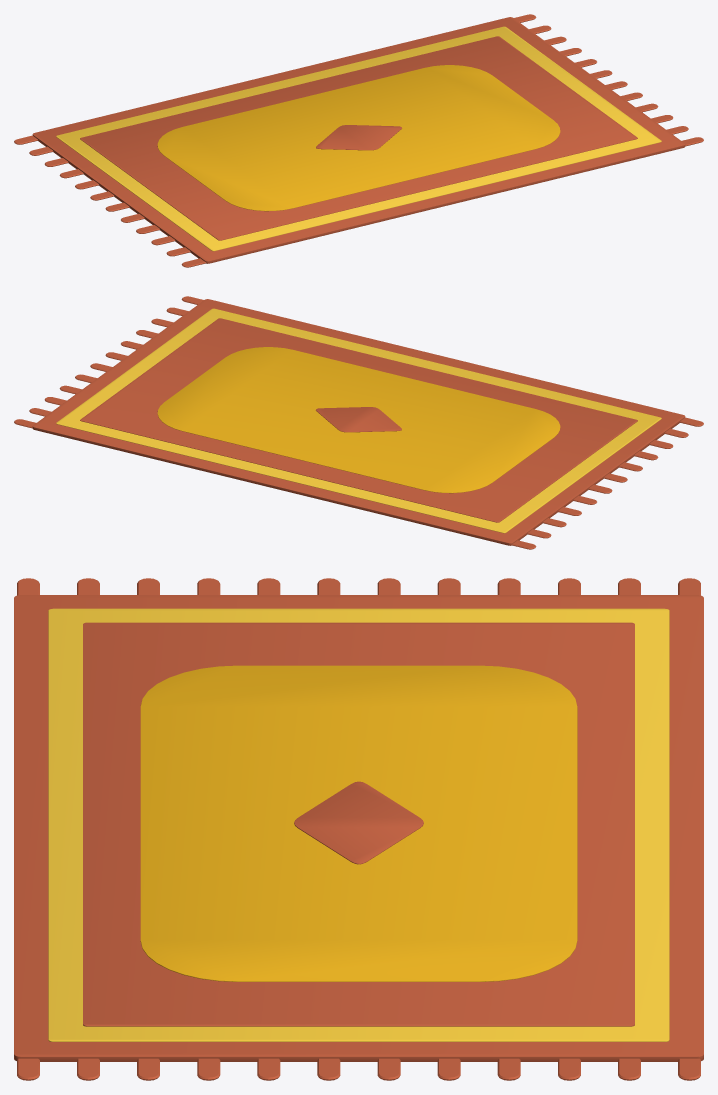
The model's file is tapete_persa_medalhao.glb.
The picture shows the model from 3 angles, top to bottom: view 1: azimuth 30°, elevation 25°; view 2: azimuth 150°, elevation 25°; view 3: azimuth 270°, elevation 25°; orthographic projection. The views are drawn at different scales.
Parts seen in each view (by area): view 1: tapete_persa_medalhao; view 2: tapete_persa_medalhao; view 3: tapete_persa_medalhao.
Boxes of the visible parts, x1,y1,x2,y2 form: tapete_persa_medalhao: [14, 14, 703, 267]; tapete_persa_medalhao: [14, 296, 703, 549]; tapete_persa_medalhao: [14, 578, 703, 1080].
Size of the model in its own units: 2.06 by 0.0164 by 1.2.
1 material, 1 textured.
